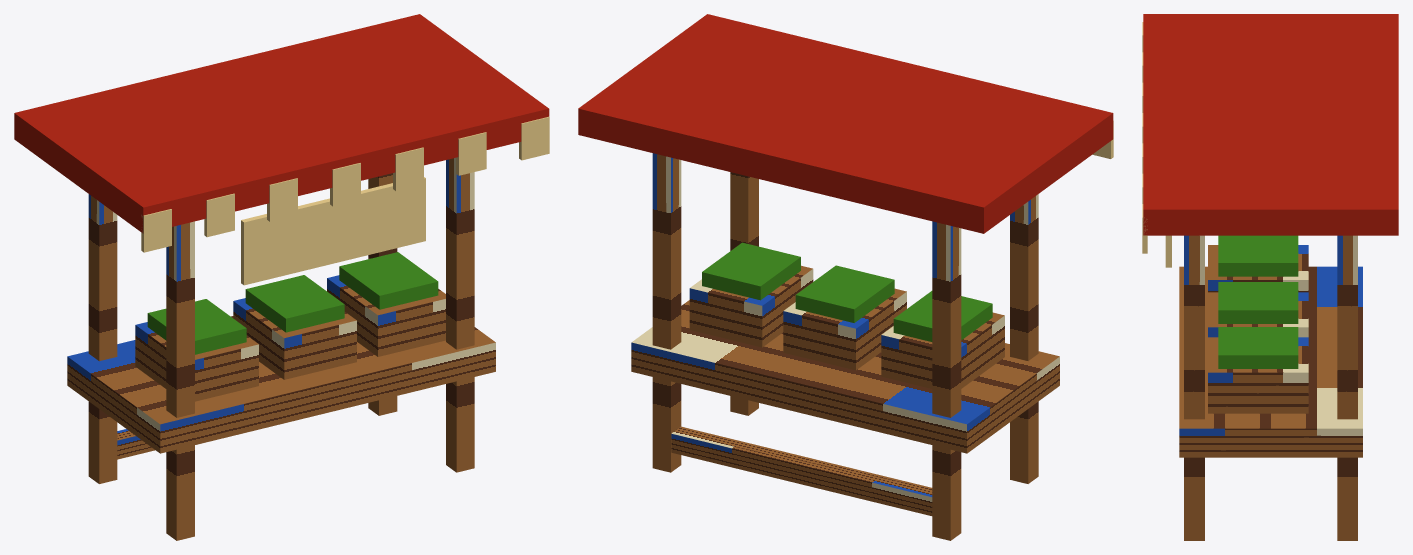
File: market_stall.obj
The picture shows the model from 3 angles, left to right: view 1: azimuth 30°, elevation 25°; view 2: azimuth 150°, elevation 25°; view 3: azimuth 270°, elevation 25°; orthographic projection.
Parts seen in each view (by area): view 1: awning, counter, shop_sign, post_-1_0.48, post_1_0.48, post_-1_-0.48, crate_0.05, crate_0.72, crate_-0.65, produce_0.05, produce_0.72, produce_-0.65 (+9 smaller); view 2: awning, counter, post_-1_-0.48, post_1_-0.48, lower_crossbar, post_-1_0.48, crate_0.05, crate_0.72, crate_-0.65, produce_0.05, produce_0.72, post_1_0.48 (+1 smaller); view 3: awning, counter, post_1_-0.48, post_1_0.48, crate_0.72, produce_0.05, produce_0.72, produce_-0.65, crate_-0.65, crate_0.05.
Part boxes in pixels (left/top/right/bottom): awning: left=14, top=14, right=549, bottom=233; counter: left=67, top=316, right=495, bottom=453; shop_sign: left=241, top=177, right=425, bottom=285; post_-1_0.48: left=166, top=221, right=194, bottom=540; post_1_0.48: left=446, top=157, right=474, bottom=472; post_-1_-0.48: left=88, top=194, right=117, bottom=483; crate_0.05: left=233, top=298, right=356, bottom=379; crate_0.72: left=327, top=275, right=445, bottom=356; crate_-0.65: left=135, top=322, right=258, bottom=401; produce_0.05: left=245, top=275, right=344, bottom=332; produce_0.72: left=339, top=252, right=438, bottom=309; produce_-0.65: left=147, top=299, right=246, bottom=354; awning: left=578, top=14, right=1113, bottom=233; counter: left=631, top=300, right=1059, bottom=453; post_-1_-0.48: left=932, top=221, right=961, bottom=540; post_1_-0.48: left=652, top=153, right=681, bottom=472; lower_crossbar: left=671, top=426, right=932, bottom=515; post_-1_0.48: left=1010, top=194, right=1038, bottom=483; crate_0.05: left=783, top=288, right=906, bottom=370; crate_0.72: left=689, top=265, right=813, bottom=347; crate_-0.65: left=881, top=312, right=1004, bottom=388; produce_0.05: left=795, top=265, right=894, bottom=322; produce_0.72: left=702, top=242, right=800, bottom=300; post_1_0.48: left=730, top=172, right=758, bottom=415; awning: left=1143, top=14, right=1398, bottom=235; counter: left=1179, top=266, right=1362, bottom=457; post_1_-0.48: left=1337, top=235, right=1357, bottom=540; post_1_0.48: left=1184, top=235, right=1204, bottom=540; crate_0.72: left=1208, top=337, right=1308, bottom=413; produce_0.05: left=1218, top=282, right=1298, bottom=323; produce_0.72: left=1218, top=327, right=1298, bottom=368; produce_-0.65: left=1218, top=235, right=1298, bottom=276; crate_-0.65: left=1208, top=245, right=1308, bottom=292; crate_0.05: left=1208, top=292, right=1308, bottom=337.
Bounding box in the file's own units: 2.9 × 2.47 × 1.61.
4 materials, 1 textured.
